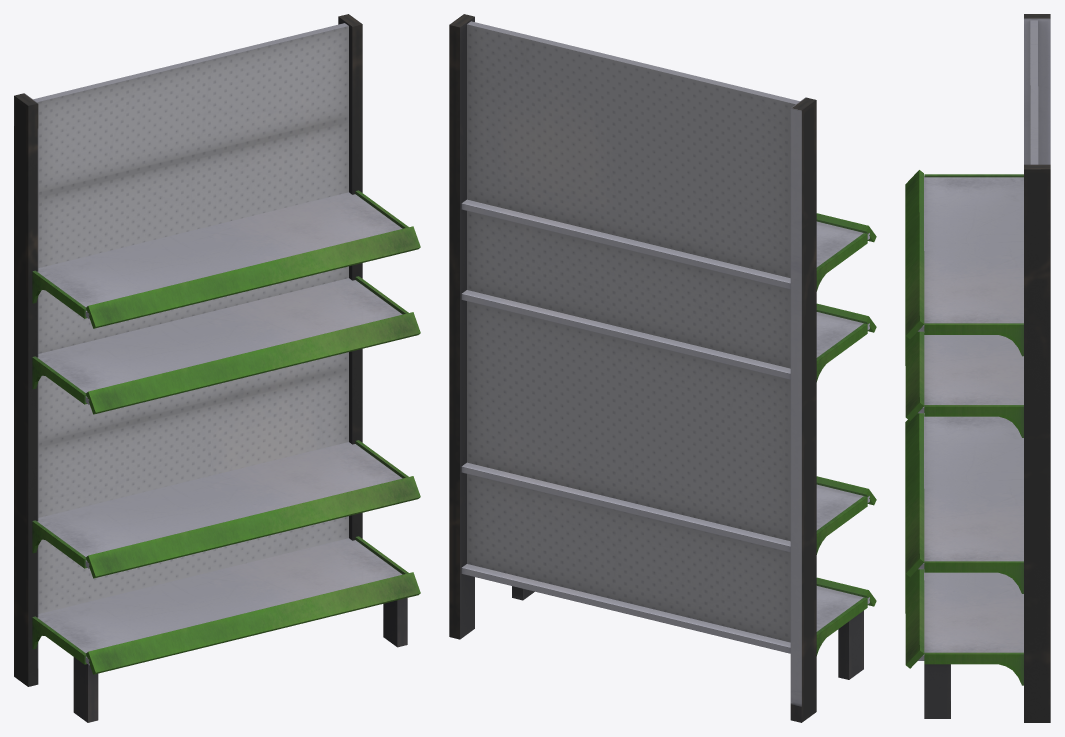
The model's file is ShelfB.fbx.
The picture shows the model from 3 angles, left to right: view 1: azimuth 30°, elevation 25°; view 2: azimuth 150°, elevation 25°; view 3: azimuth 270°, elevation 25°; orthographic projection. The views are drawn at different scales.
Visible parts, largest first — view 1: ShelfB; view 2: ShelfB; view 3: ShelfB.
Boxes of the visible parts, <box> form: ShelfB: <box>14,14,420,722</box>; ShelfB: <box>449,14,876,722</box>; ShelfB: <box>905,14,1050,722</box>.
Size of the model in its own units: 133 by 221 by 52.73.
